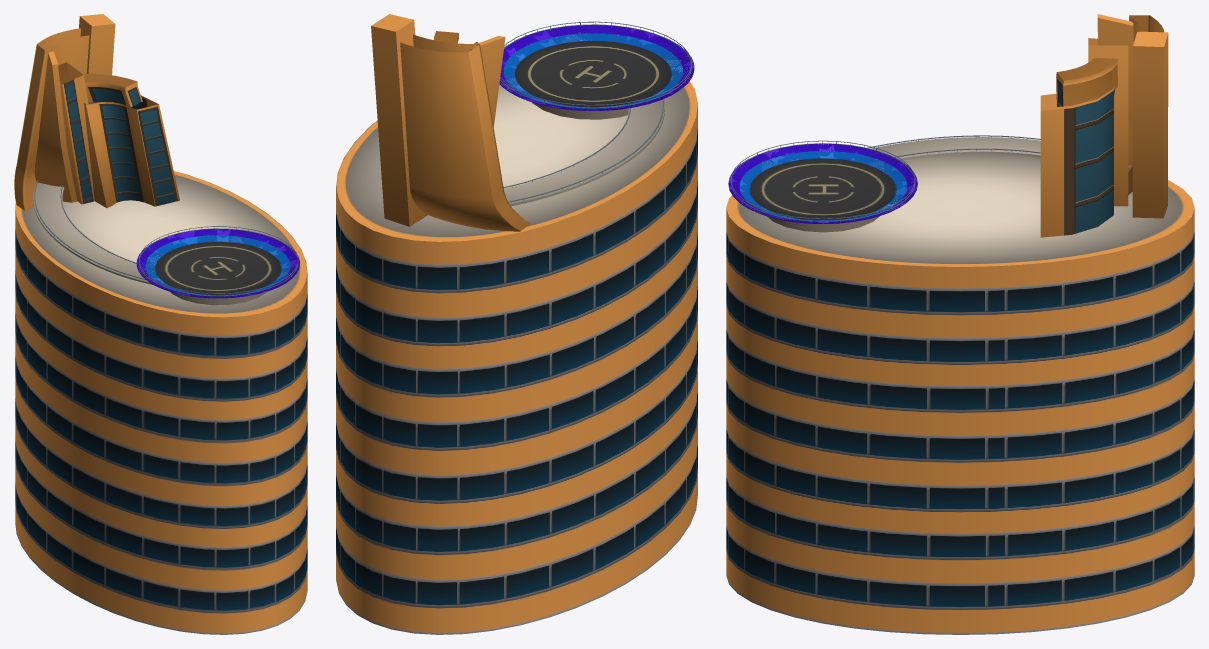
Rendered from building_01.fbx.
3 renders of one model, left to right at view 1: azimuth 30°, elevation 25°; view 2: azimuth 150°, elevation 25°; view 3: azimuth 270°, elevation 25°, orthographic. The views are drawn at different scales.
Visible parts, largest first — view 1: polySurface6887, polySurface6888, polySurface6946, polySurface6949, polySurface6951, polySurface6940, polySurface6948, polySurface6950, polySurface6947, polySurface6952, polySurface6889; view 2: polySurface6887, polySurface6949, polySurface6888, polySurface6950, polySurface6940, polySurface6952, polySurface6951, polySurface6889; view 3: polySurface6887, polySurface6888, polySurface6946, polySurface6950, polySurface6948, polySurface6940, polySurface6947, polySurface6951, polySurface6952, polySurface6889.
Boxes of the visible parts, x1,y1,x2,y2 form: polySurface6887: (15, 171, 307, 634); polySurface6888: (136, 229, 299, 298); polySurface6946: (83, 95, 179, 207); polySurface6949: (14, 28, 89, 211); polySurface6951: (34, 51, 77, 202); polySurface6940: (33, 182, 153, 284); polySurface6948: (58, 62, 94, 204); polySurface6950: (79, 14, 115, 75); polySurface6947: (75, 74, 142, 107); polySurface6952: (138, 226, 298, 296); polySurface6889: (170, 291, 267, 305); polySurface6887: (336, 70, 697, 634); polySurface6949: (400, 34, 530, 231); polySurface6888: (499, 25, 694, 110); polySurface6950: (371, 14, 427, 226); polySurface6940: (503, 98, 664, 206); polySurface6952: (500, 21, 691, 109); polySurface6951: (470, 36, 505, 126); polySurface6889: (532, 102, 628, 119); polySurface6887: (726, 153, 1194, 634); polySurface6888: (728, 144, 917, 224); polySurface6946: (1040, 86, 1114, 237); polySurface6950: (1132, 31, 1168, 218); polySurface6948: (1088, 38, 1128, 206); polySurface6940: (870, 137, 1132, 167); polySurface6947: (1056, 58, 1117, 106); polySurface6951: (1097, 14, 1133, 172); polySurface6952: (730, 140, 915, 222); polySurface6889: (767, 215, 879, 232).
Bounding box in the file's own units: 115 × 245 × 190.
